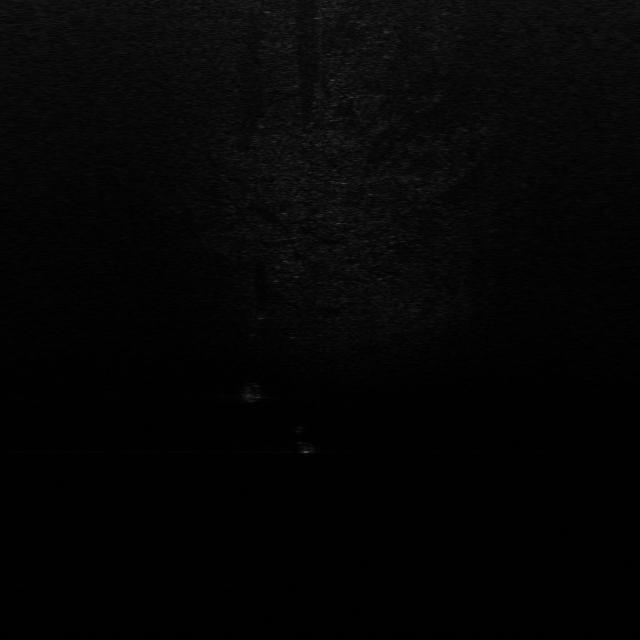ball: (248, 307, 276, 326)
circle cage: (238, 380, 266, 406)
tyre: (290, 421, 322, 456)
